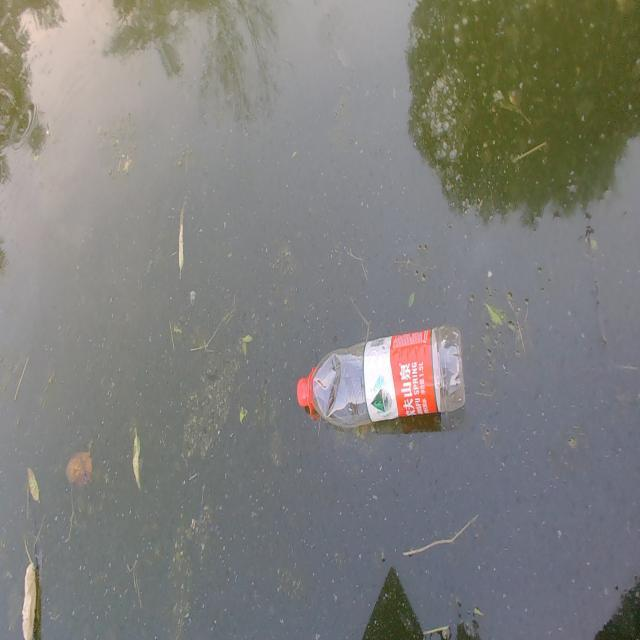bottle: (271, 302, 475, 457)
